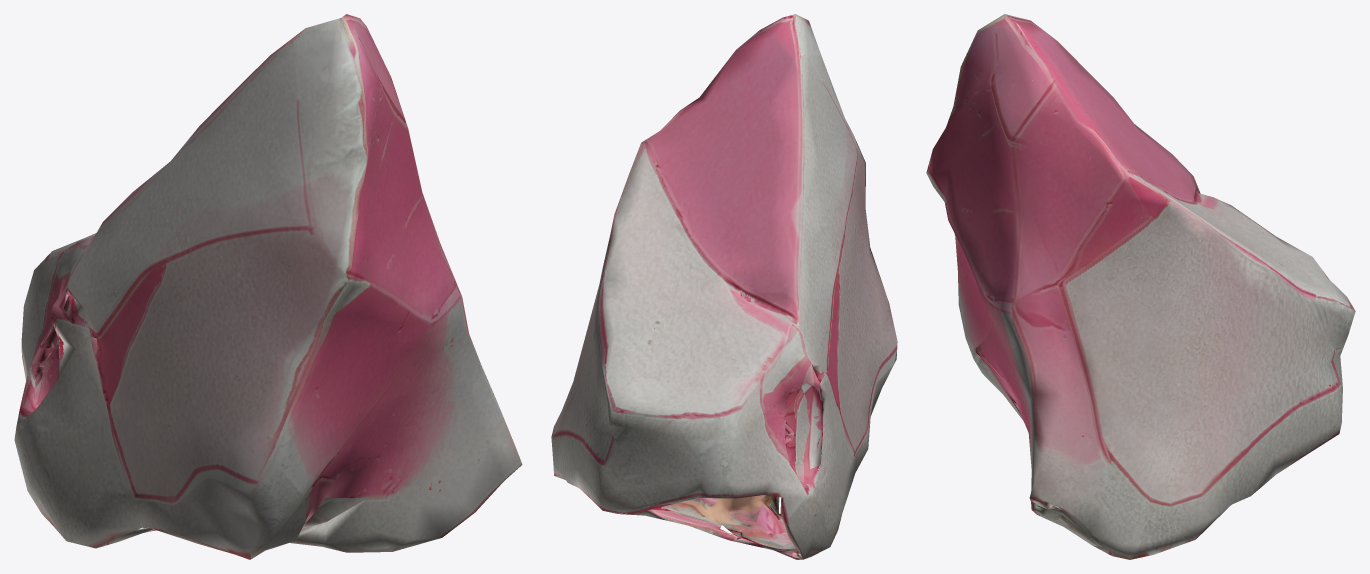
The model's file is PiggyFragment02.glb.
The picture shows the model from 3 angles, left to right: view 1: azimuth 30°, elevation 25°; view 2: azimuth 150°, elevation 25°; view 3: azimuth 270°, elevation 25°; orthographic projection. The views are drawn at different scales.
Parts seen in each view (by area): view 1: texture_mapping; view 2: texture_mapping; view 3: texture_mapping.
Part boxes in pixels (x1,y1,x2,y2): texture_mapping: [14, 14, 522, 559]; texture_mapping: [551, 14, 897, 559]; texture_mapping: [926, 14, 1355, 559].
Size of the model in its own units: 0.7155 by 0.9855 by 0.8335.
1 material, 1 textured.
